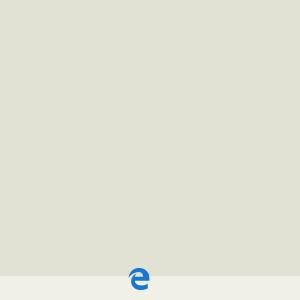edge: (129, 268, 149, 290)
